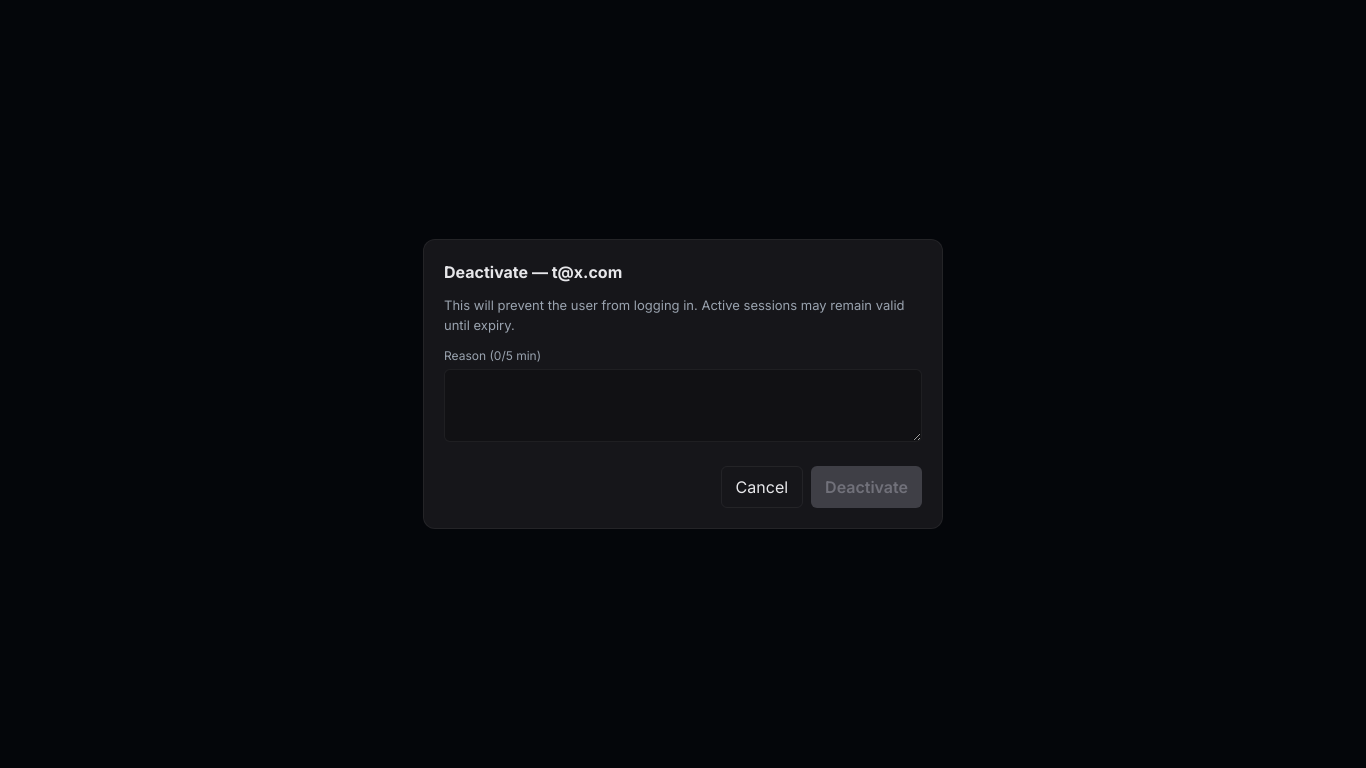
Test case: Phase 19a Part 5 — DeactivateModal › non-self, valid 5+ char reason enables Deactivate
This screenshot has width=1366, height=768.
Expected: the button with test id "confirm-deactivate" is disabled, left=811, top=466, right=922, bottom=508
Type "abuse" into the text box with test id "reason-textarea" at (683, 406), box left=444, top=369, right=922, bottom=442
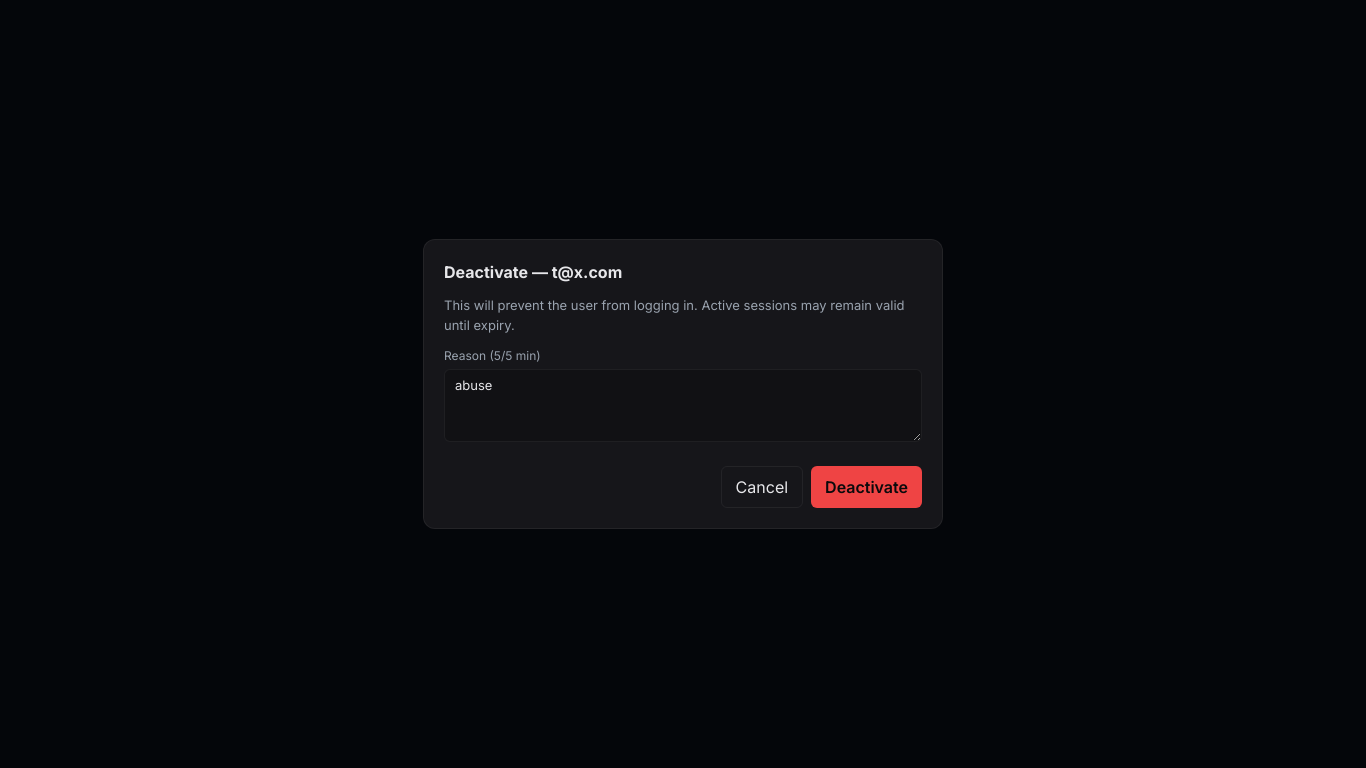
Expected: the button with test id "confirm-deactivate" is enabled, left=811, top=466, right=922, bottom=508
